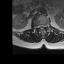CCS_normal: (40, 22, 42, 30)
LFS_normal: (44, 22, 46, 28)
LLS_normal: (42, 23, 44, 30)
RFS_normal: (36, 23, 38, 29)
RLS_normal: (38, 23, 40, 29)
